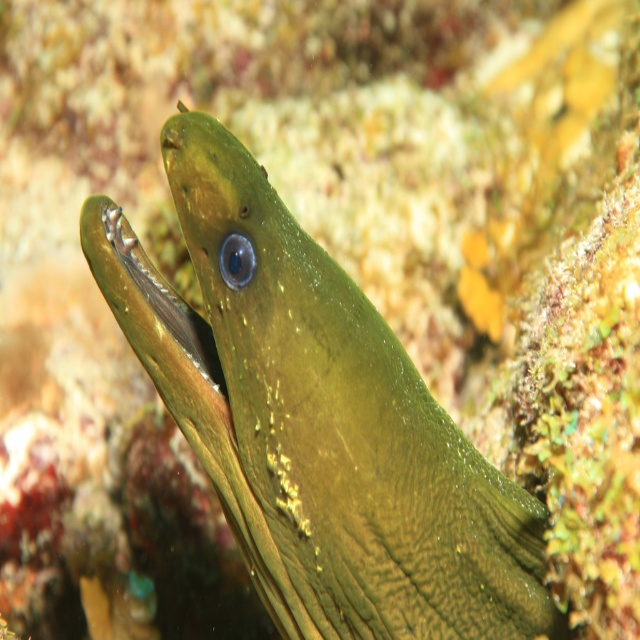Fish: (100, 137, 545, 638)
